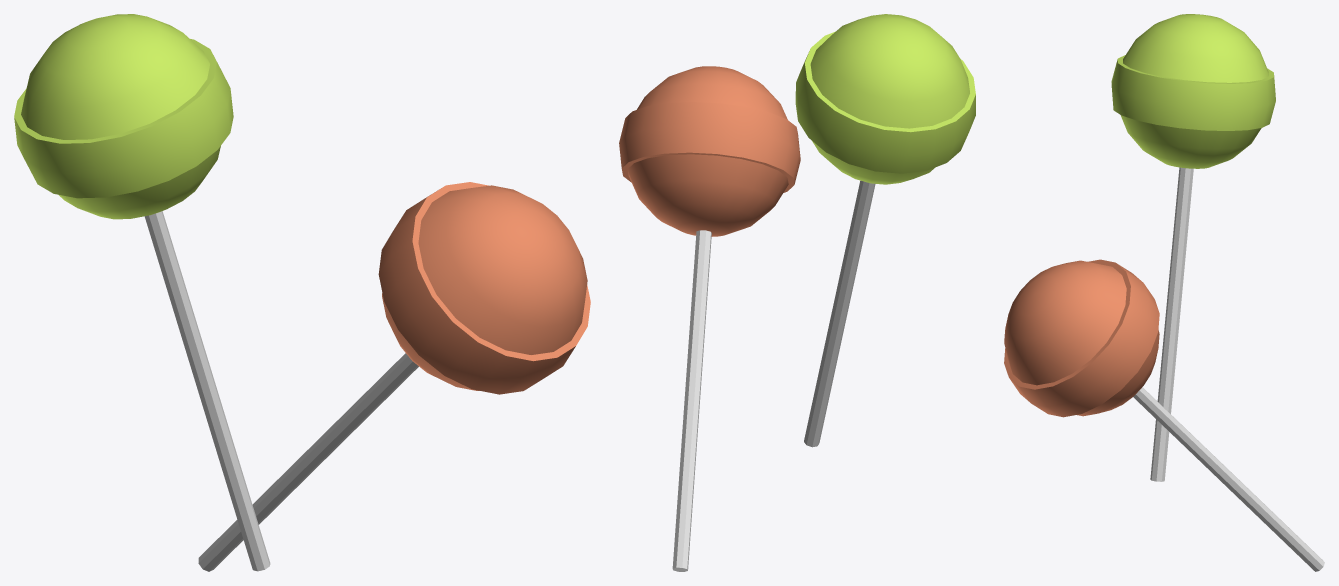
Rendered from candy.glb.
3 renders of one model, left to right at view 1: azimuth 30°, elevation 25°; view 2: azimuth 150°, elevation 25°; view 3: azimuth 270°, elevation 25°, orthographic. The views are drawn at different scales.
Parts seen in each view (by area): view 1: 1Candy; view 2: 1Candy; view 3: 1Candy.
Part boxes in pixels (x1,y1,x2,y2): 1Candy: [14, 14, 590, 571]; 1Candy: [619, 14, 975, 571]; 1Candy: [1004, 14, 1324, 571].
Bounding box in the file's own units: 3.46 × 4.49 × 2.68.
